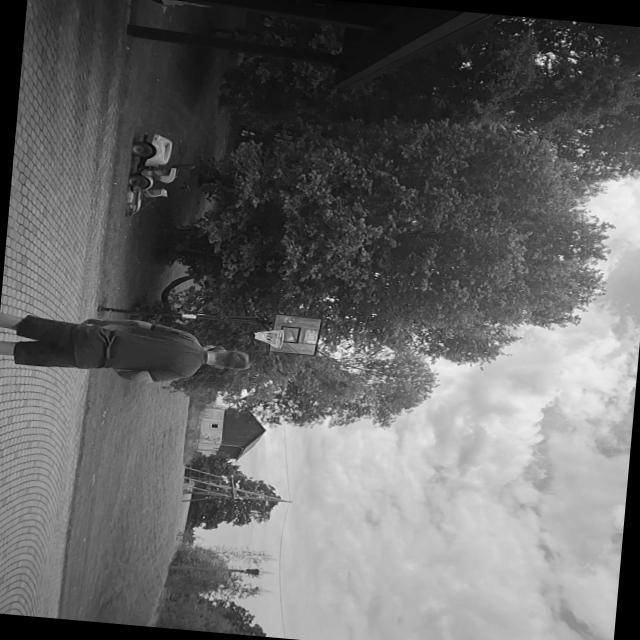hoop: (251, 327, 287, 351)
player: (0, 306, 257, 392)
